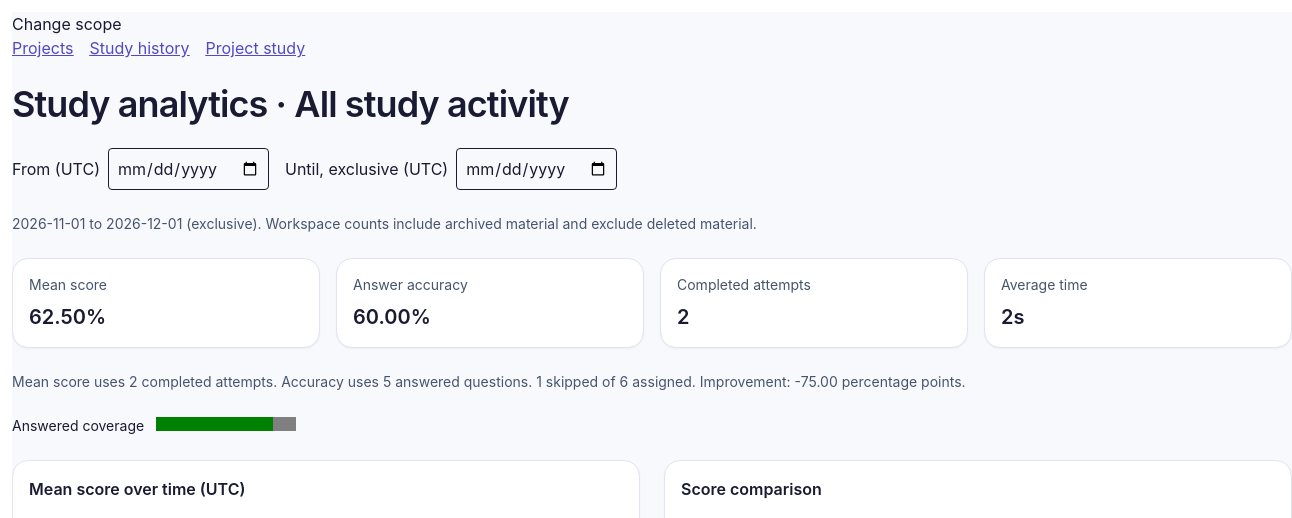
Test: keys analytics by account and requests the selected project and quiz
Check: the heading "Study analytics · All study activity" is shown, box [12, 82, 569, 126]
Click the link "Change scope" at x=67, y=24, box [12, 14, 122, 34]
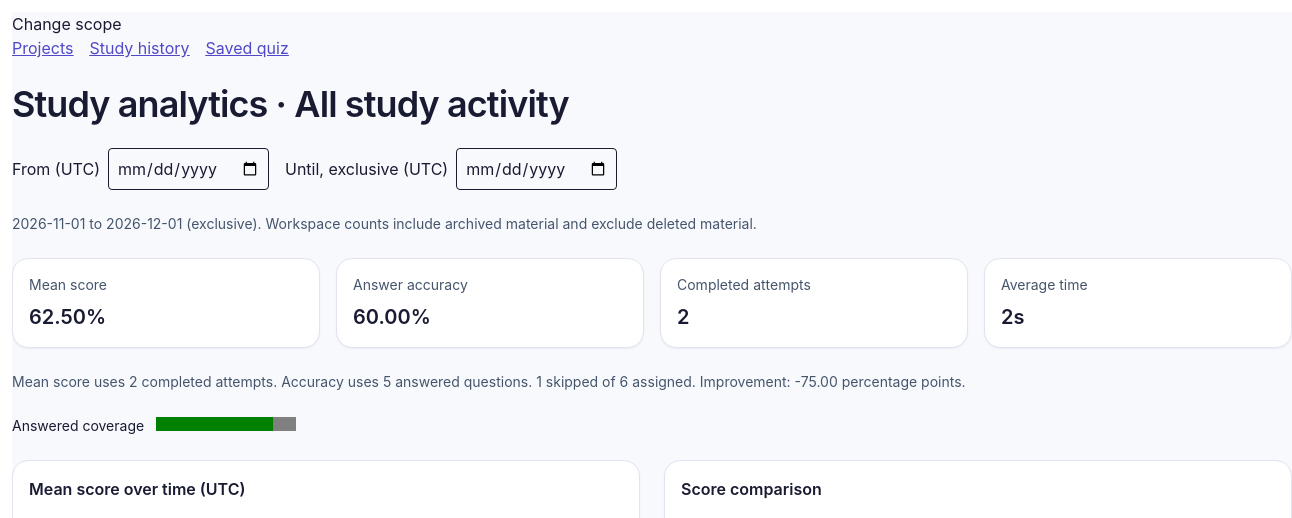
Check: the link "Saved quiz" is shown, box [206, 36, 289, 60]
